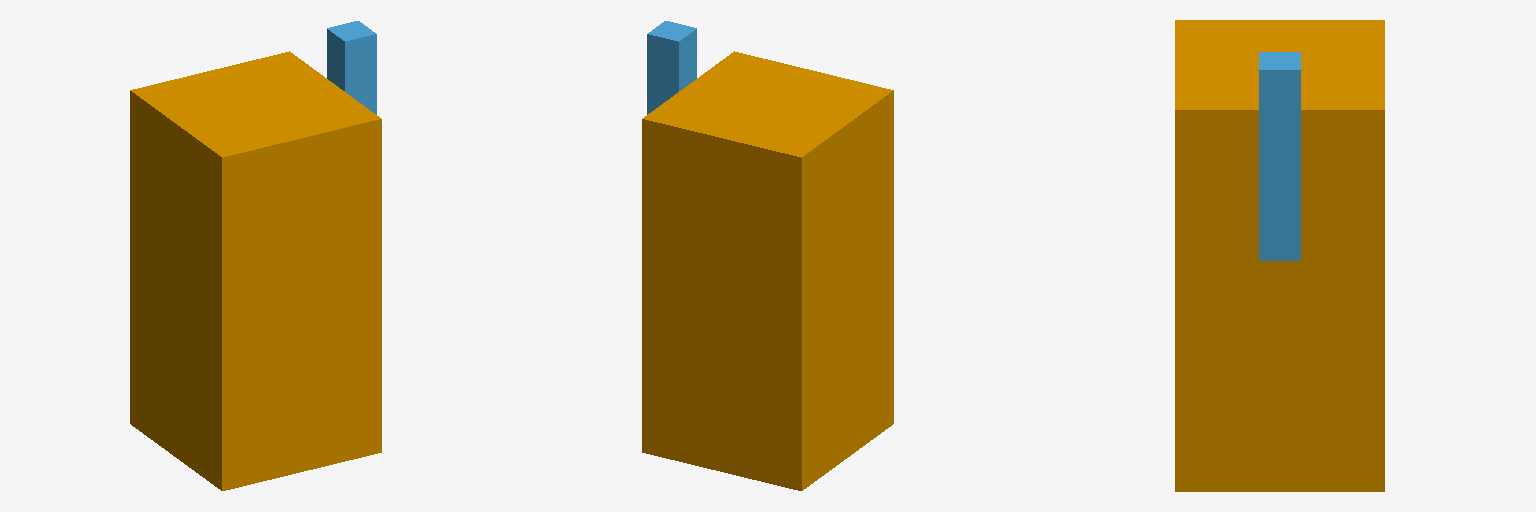
robot.urdf — my_robot:
<?xml version="1.0" ?>
<robot name="my_robot" xmlns:xacro="http://wwww.ros.org/wiki/xacro">

    <!-- 1st Link -->
    <link name="base_body">
        <pose>0 0 0.1 0 0 0</pose>
        <inertial>
            <mass value="5"></mass>
            <origin rpy="0 0 0" xyz="0 0 0.1"></origin>
            <inertia ixx="0.0395416666667" ixy="0" ixz="0" iyy="0.106208333333" iyz="0" izz="0.106208333333"></inertia>
        </inertial>

        <collision name="collision_body">
            <geometry>
                <box size="1 1 2"></box>
            </geometry>
        </collision>

        <visual>
            <origin rpy="0 0 0" xyz="0 0 0"></origin>
            <geometry>
                <box size="1 1 2"></box>
            </geometry>
        </visual>
    </link>

    <!-- Continious joint connecting between 1st link and 2nd link -->
    <joint name="joint1" type="continuous">
        <origin xyz="0.6 0 0.8" rpy="0 0 0"></origin>
        <parent link="base_body"></parent>
        <child link="link_arm"></child>
    </joint>

    <!-- 2nd Link -->
    <link name="link_arm">
        <pose>0 0 0 0 0 0</pose>
        <inertial>
            <mass value="0.5"></mass>
            <origin xyz="0 0 0" rpy="0 0 0"></origin>
            <inertia ixx="0.0395416666667" ixy="0" ixz="0" iyy="0.106208333333" iyz="0" izz="0.106208333333"></inertia>
        </inertial>

        <collision name="collision_arm">
            <geometry>
                <box size="0.2 0.2 1"></box>
            </geometry>
        </collision>

        <visual>
            <origin xyz="0 0 0" rpy="0 0 0"></origin>
            <geometry>
                <box size="0.2 0.2 1"></box>
            </geometry>
        </visual>
    </link>

</robot>

--- Render facts (derived) ---
The picture shows the robot from 3 angles, left to right: view 1: azimuth 30°, elevation 25°; view 2: azimuth 150°, elevation 25°; view 3: azimuth 270°, elevation 25°; orthographic projection.
Robot: my_robot — 2 links, 1 joints (1 continuous); root link base_body; default pose: every joint at zero.
Visible links, largest first — view 1: base_body, link_arm; view 2: base_body, link_arm; view 3: base_body, link_arm.
Link boxes in pixels (box(x1,y1,x2,y2)): base_body: box(130, 51, 381, 490); link_arm: box(327, 21, 376, 114); base_body: box(642, 51, 893, 490); link_arm: box(647, 21, 696, 114); base_body: box(1175, 20, 1384, 491); link_arm: box(1259, 52, 1300, 260).
Bounding box of the posed robot: 1.2 × 1 × 2.3 m (x, y, z).
Geometry: primitives only (box / cylinder / sphere), no mesh files.